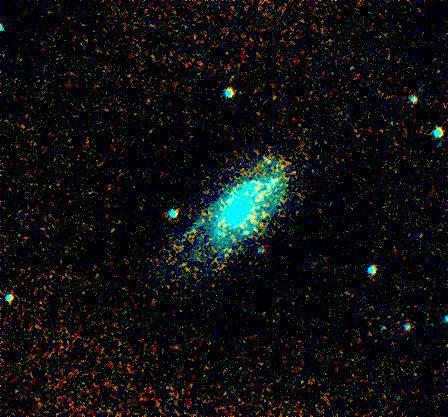star: (254, 146, 284, 176)
